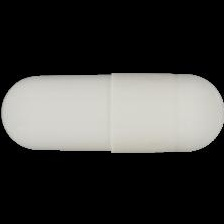51672-4013: (0, 0, 224, 224)
